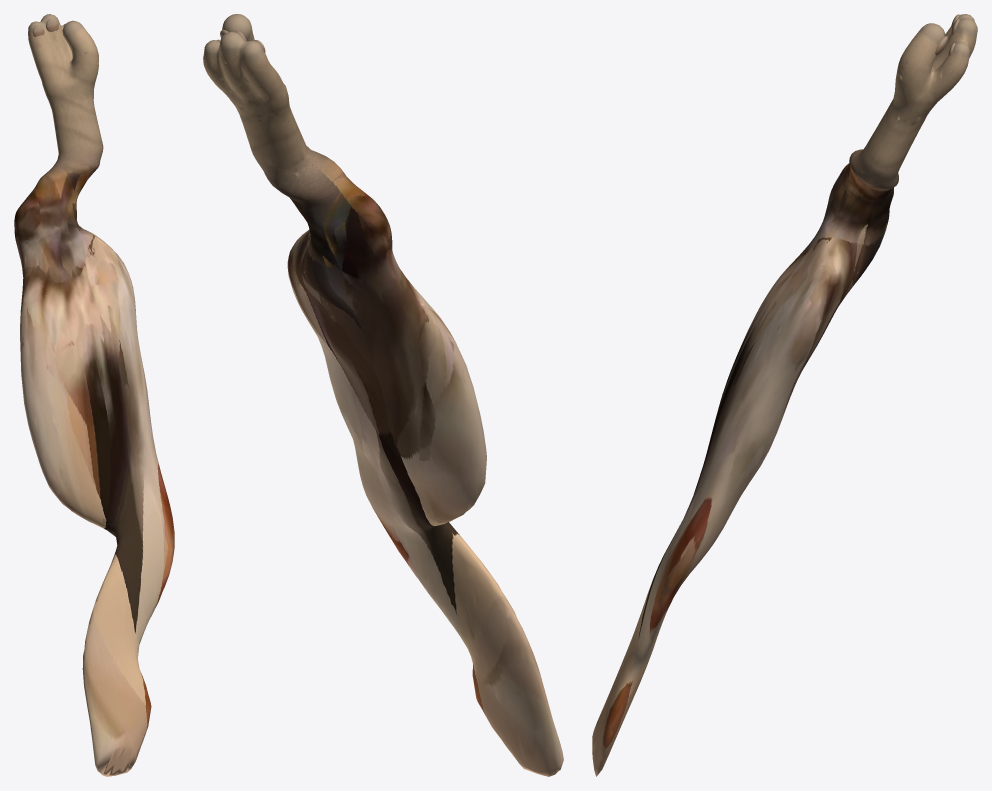
The model's file is cat-grip-v3.glb.
The picture shows the model from 3 angles, left to right: view 1: azimuth 30°, elevation 25°; view 2: azimuth 150°, elevation 25°; view 3: azimuth 270°, elevation 25°; orthographic projection. The views are drawn at different scales.
Parts seen in each view (by area): view 1: cat-card-grip; view 2: cat-card-grip; view 3: cat-card-grip.
Part boxes in pixels (x1=…): cat-card-grip: x1=14, y1=14, x2=174, y2=776; cat-card-grip: x1=203, y1=14, x2=563, y2=776; cat-card-grip: x1=592, y1=14, x2=977, y2=776.
Size of the model in its own units: 2.05 by 9.65 by 4.2.
1 material, 1 textured.
